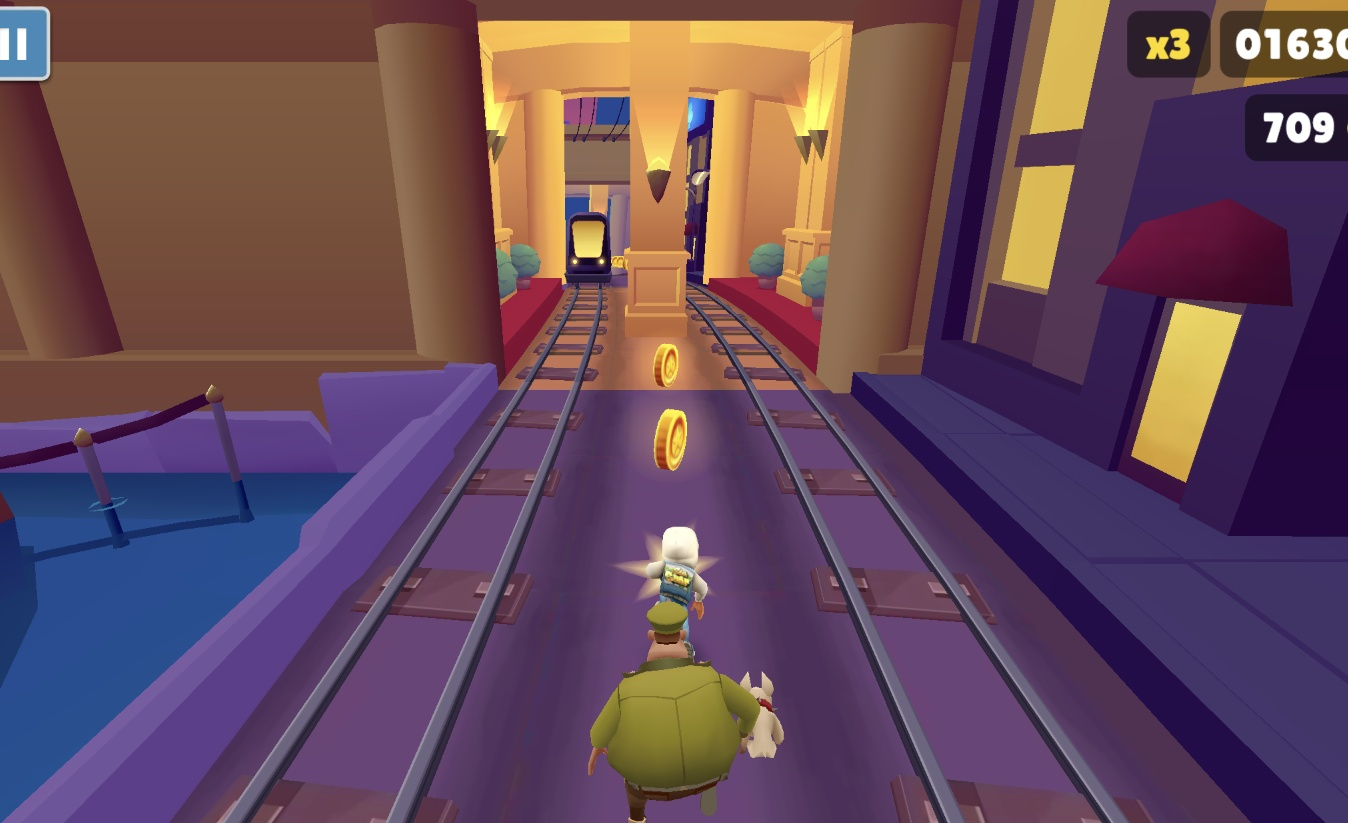pillar: (623, 93, 691, 340)
train: (563, 210, 613, 287)
